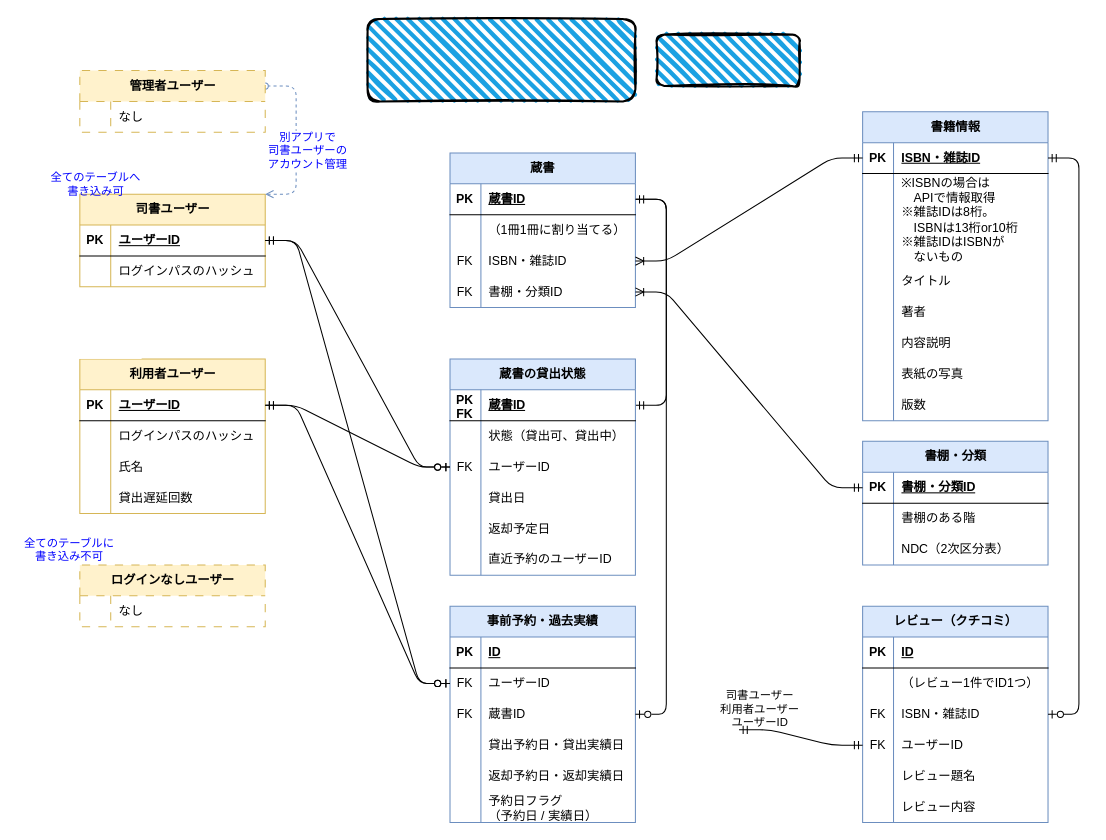
The diagram is 1106 pixels wide and 840 high, and some of its shapes have lost their labels. The shapes that lost their labels are listed below. From the top down, each one's centre as x and y in pixels, then its label:
At (501,60): "分散型図書館App distrLibraryApp".
At (727,60): "ER図".
At (79,343): "蔵書の貸出状態、 事前予約・過去実績のみ 書き込み可".
